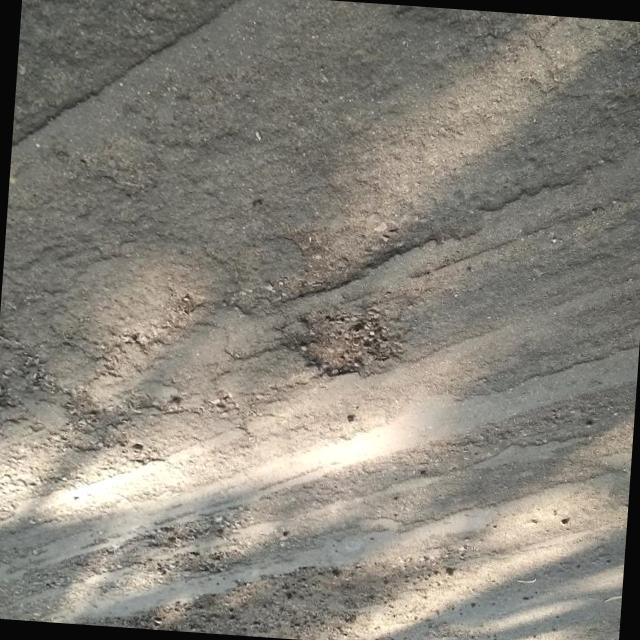Pothole: (271, 305, 404, 380)
